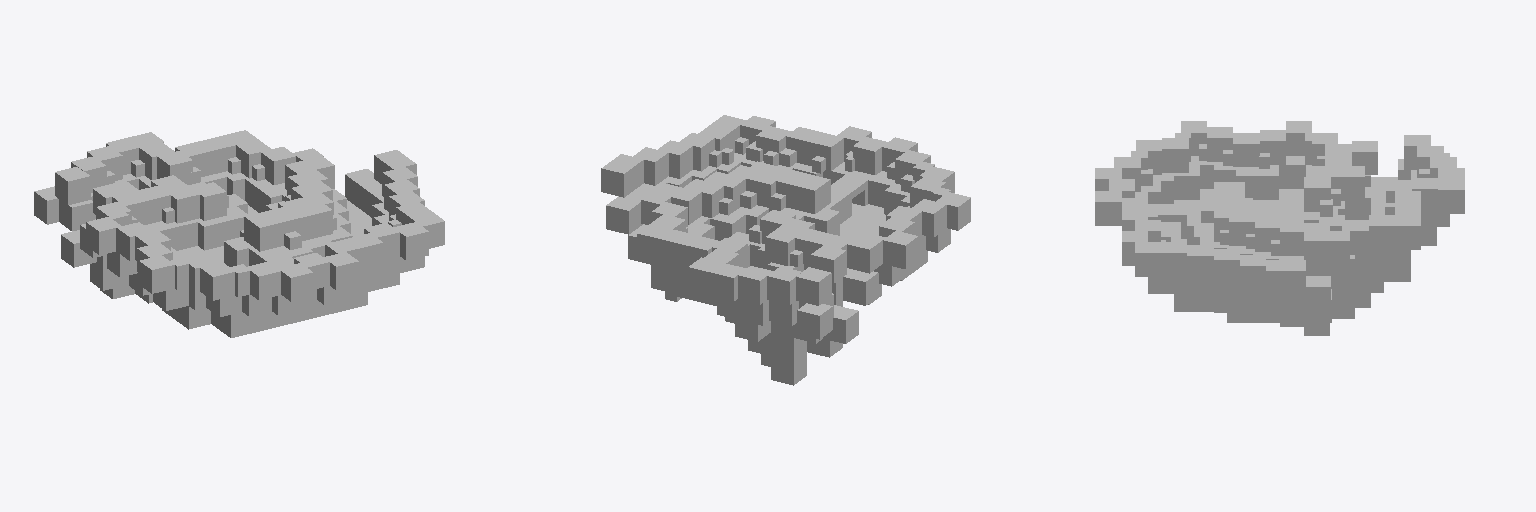
File: newcave.obj
The picture shows the model from 3 angles: view 1: azimuth 30°, elevation 25°; view 2: azimuth 150°, elevation 25°; view 3: azimuth 270°, elevation 25°; orthographic projection.
Parts seen in each view (by area): view 1: cave_door_v2; view 2: cave_door_v2; view 3: cave_door_v2.
Part boxes in pixels (bbox=[...]): cave_door_v2: bbox=[34, 130, 444, 337]; cave_door_v2: bbox=[601, 115, 970, 385]; cave_door_v2: bbox=[1095, 121, 1464, 335].
Bounding box in the file's own units: 135 × 50 × 140.